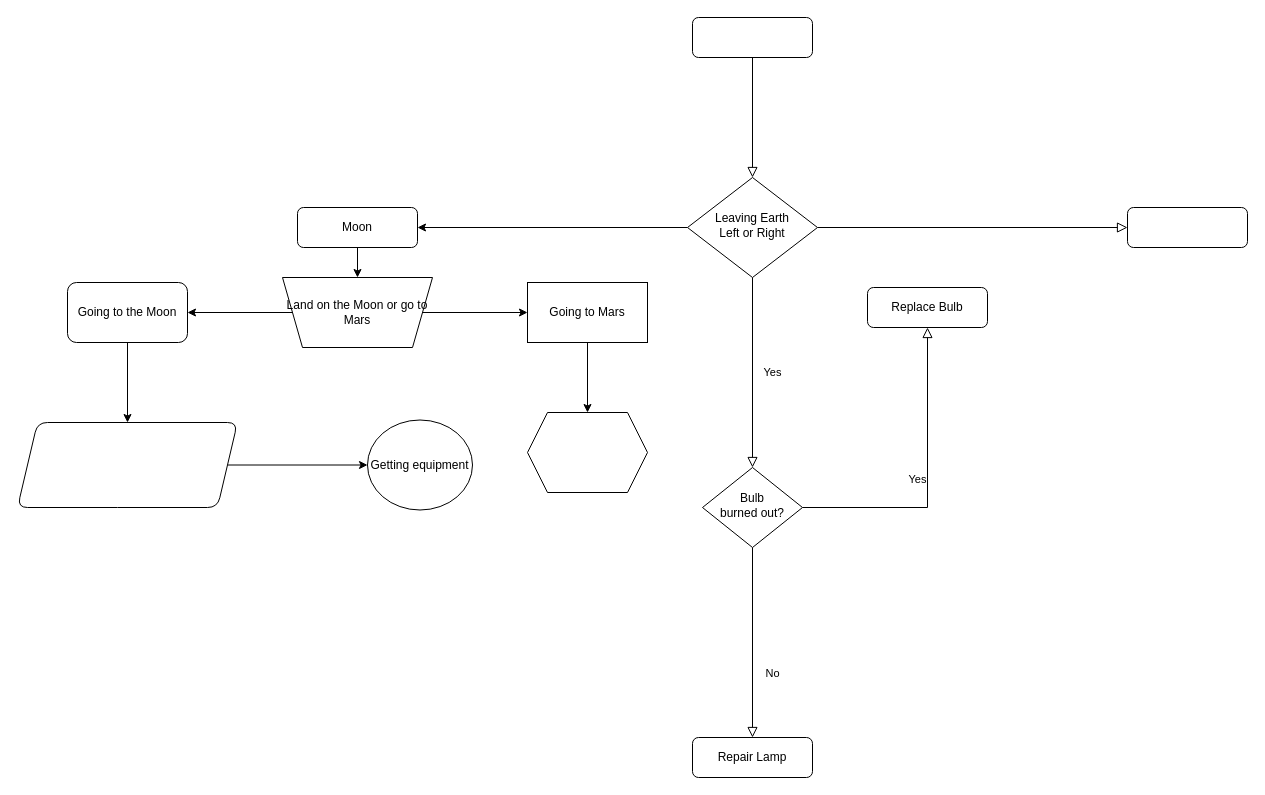
Some shapes in this 1265 by 795 pixel diagram are drawn without their labels. The centre of each missing label's shape, as x and y in pixels:
Game Over: pixel 587 452
Land on Moon base or get equipment: pixel 127 465
Start: pixel 752 37
Venus: pixel 1187 227
